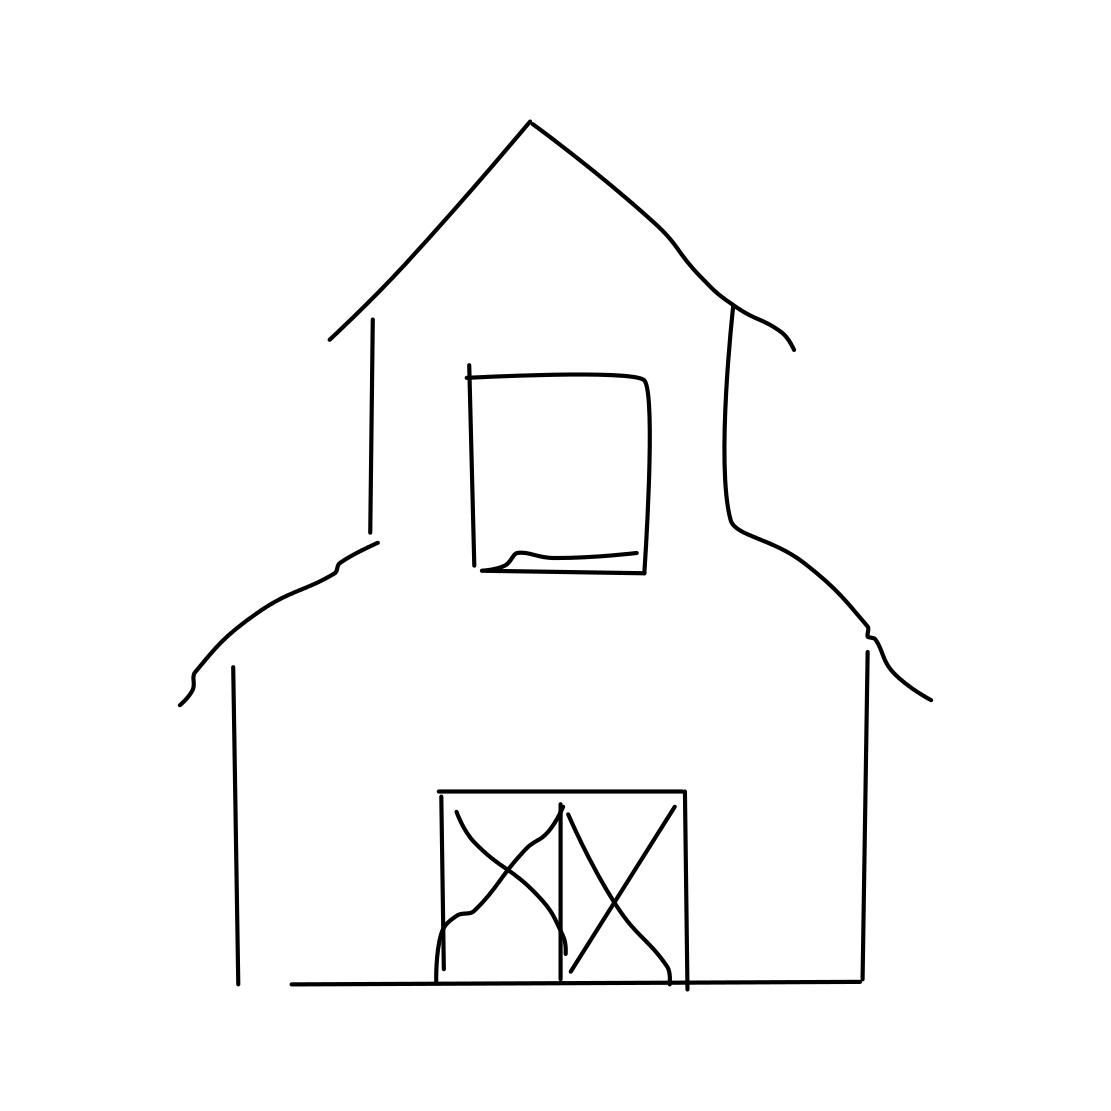House: (123, 109, 1006, 1007)
